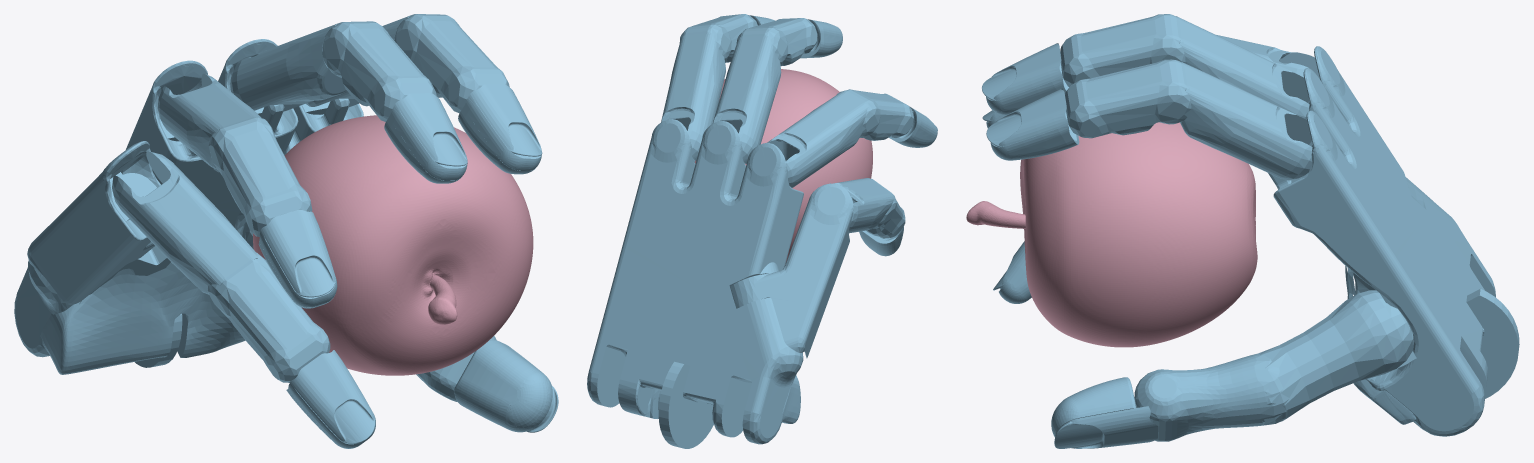
The picture shows the model from 3 angles, left to right: view 1: azimuth 30°, elevation 25°; view 2: azimuth 150°, elevation 25°; view 3: azimuth 270°, elevation 25°; orthographic projection. The views are drawn at different scales.
Visible parts, largest first — view 1: world, apple.stl; view 2: world, apple.stl; view 3: world, apple.stl.
Boxes of the visible parts, left/top/right/bottom form: world: left=14, top=14, right=558, bottom=448; apple.stl: left=253, top=115, right=533, bottom=375; world: left=587, top=14, right=937, bottom=448; apple.stl: left=694, top=69, right=872, bottom=261; world: left=982, top=14, right=1519, bottom=448; apple.stl: left=966, top=122, right=1257, bottom=347.
Bounding box in the file's own units: 0.1105 × 0.1374 × 0.1677.
